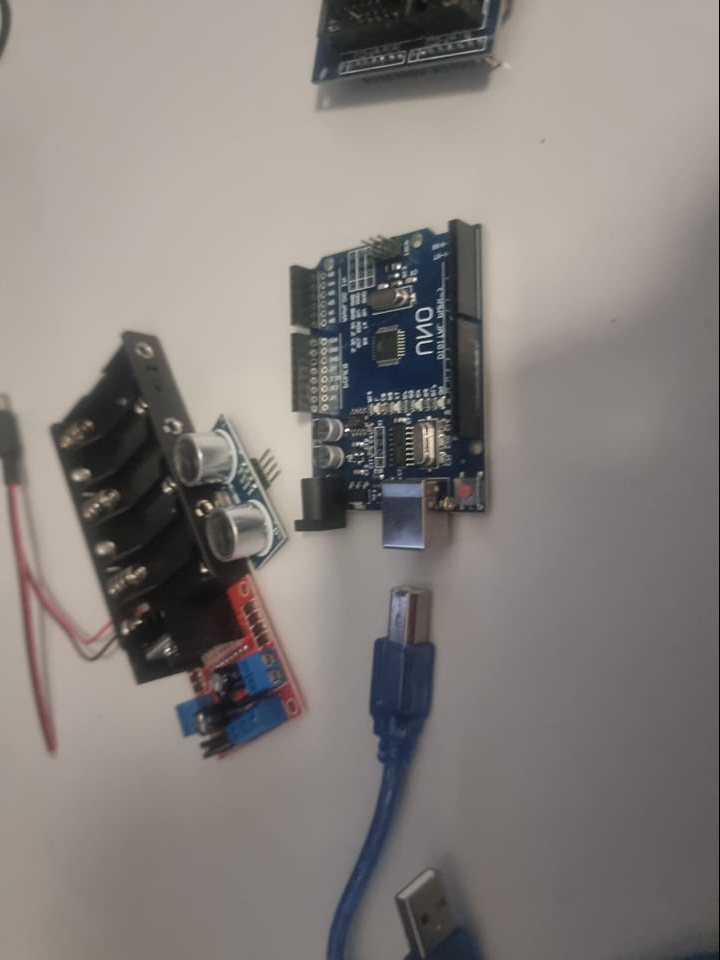BATTERY BOX: (48, 331, 196, 610)
MOTOR: (123, 576, 309, 760)
SENSOR: (177, 422, 286, 565)
UNO R3: (280, 216, 498, 553)
